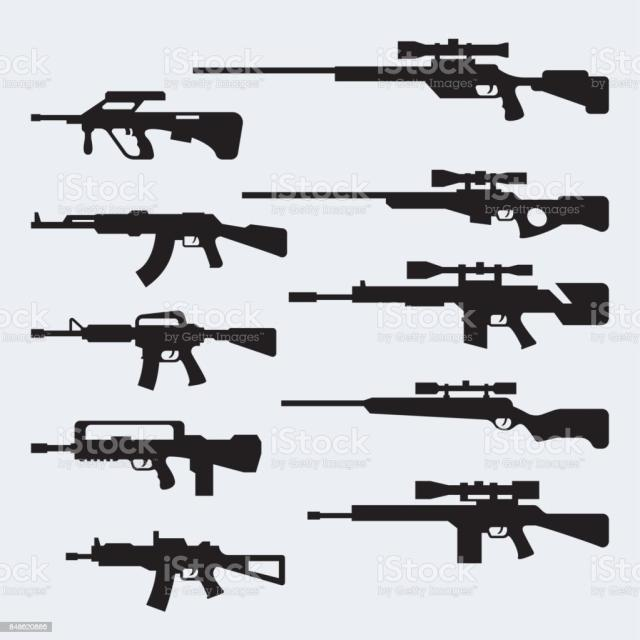Rifle: (186, 39, 610, 124), (288, 261, 611, 352), (243, 169, 611, 242), (306, 482, 611, 567), (280, 381, 611, 449), (29, 211, 289, 291), (30, 311, 278, 393), (29, 421, 263, 499), (63, 532, 287, 613), (30, 88, 244, 164)
